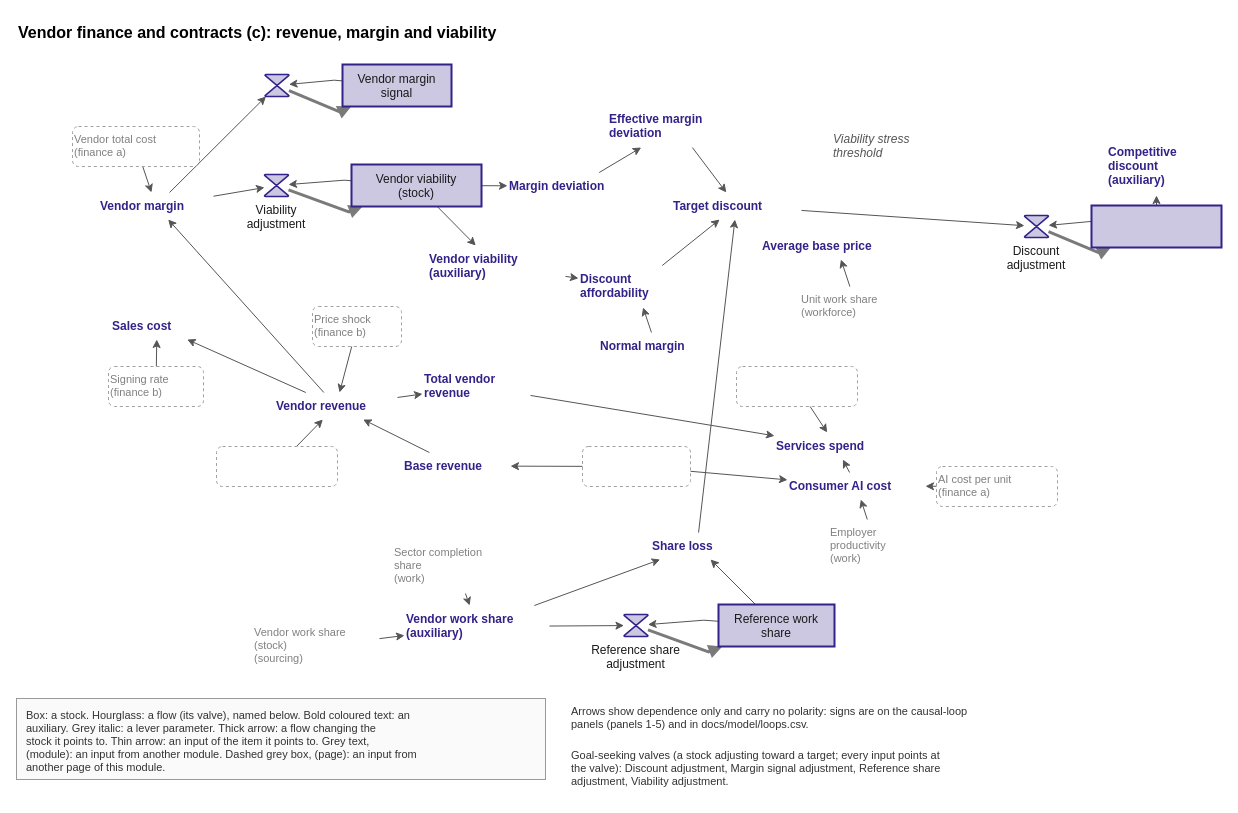
The diagram is 1238 pixels wide and 813 high, and some of its shapes have lost their labels. The box of each missing label's shape, as (x1, y1, x2, y2) in pixels:
Book price index (finance b): (216, 446, 338, 486)
Competitive discount (stock): (1090, 204, 1222, 248)
Margin signal adjustment: (264, 73, 289, 97)
Unit labour cost (finance a): (736, 366, 858, 406)
Work delivered (finance a): (582, 446, 690, 486)
